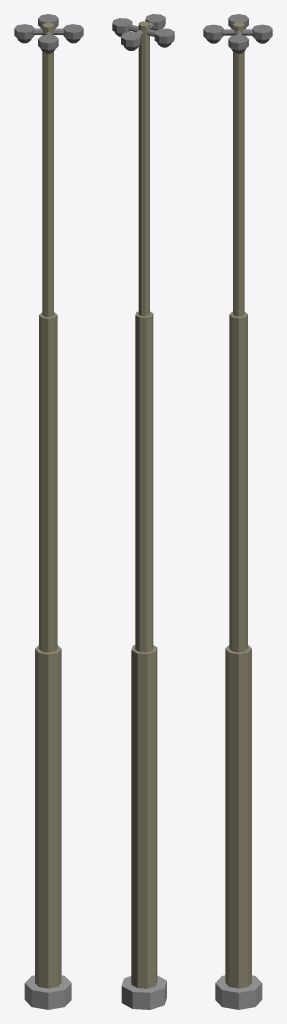
Rendered from camera.fbx.
3 views of the same model, side by side, from view 1: azimuth 90°, elevation 25°; view 2: azimuth 150°, elevation 25°; view 3: azimuth 270°, elevation 25° (orthographic).
Parts seen in each view (by area): view 1: Cylinder_4; view 2: Cylinder_4; view 3: Cylinder_4.
Boxes of the visible parts, x1=… form: Cylinder_4: x1=14, y1=14, x2=83, y2=1009; Cylinder_4: x1=112, y1=14, x2=174, y2=1009; Cylinder_4: x1=203, y1=14, x2=272, y2=1009.
Bounding box in the file's own units: 81.46 × 1259 × 81.46.
